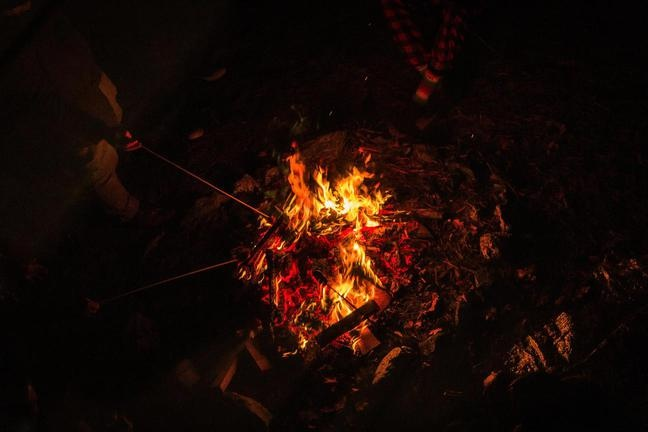fire: (241, 141, 393, 353)
